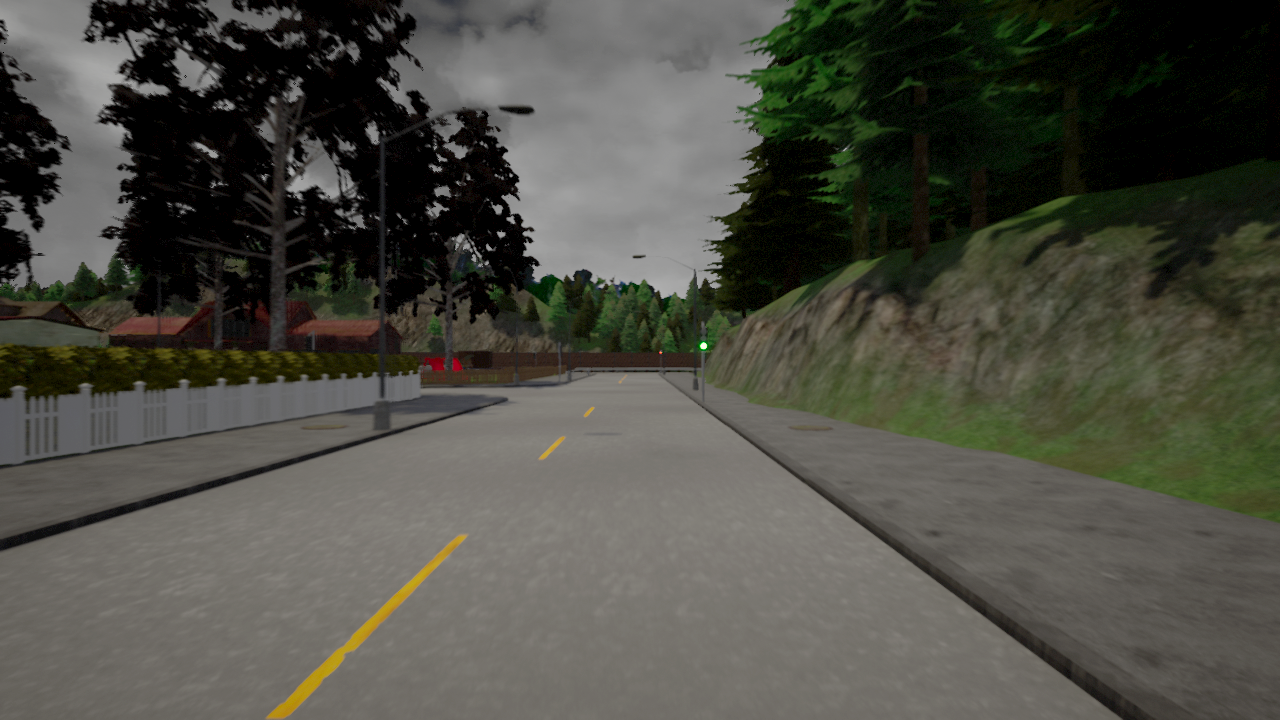green: (699, 327, 709, 350)
